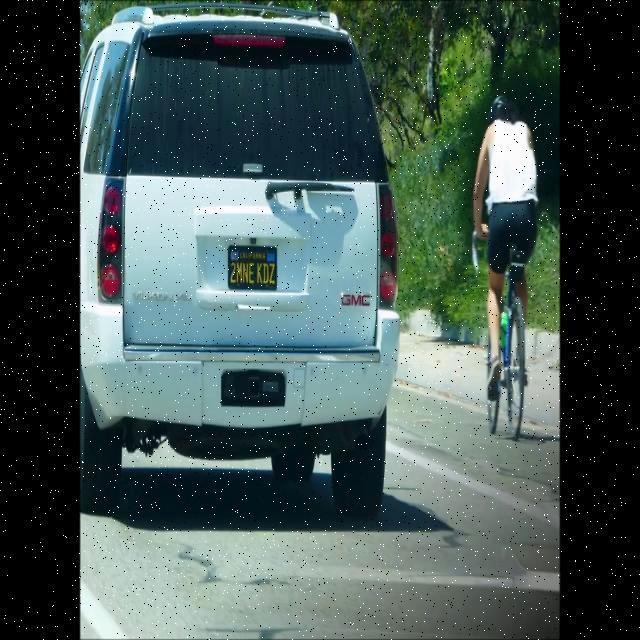licenseplate: (227, 245, 277, 288)
